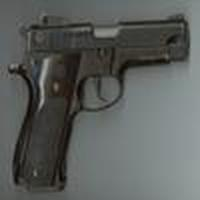gun: (6, 10, 190, 200)
